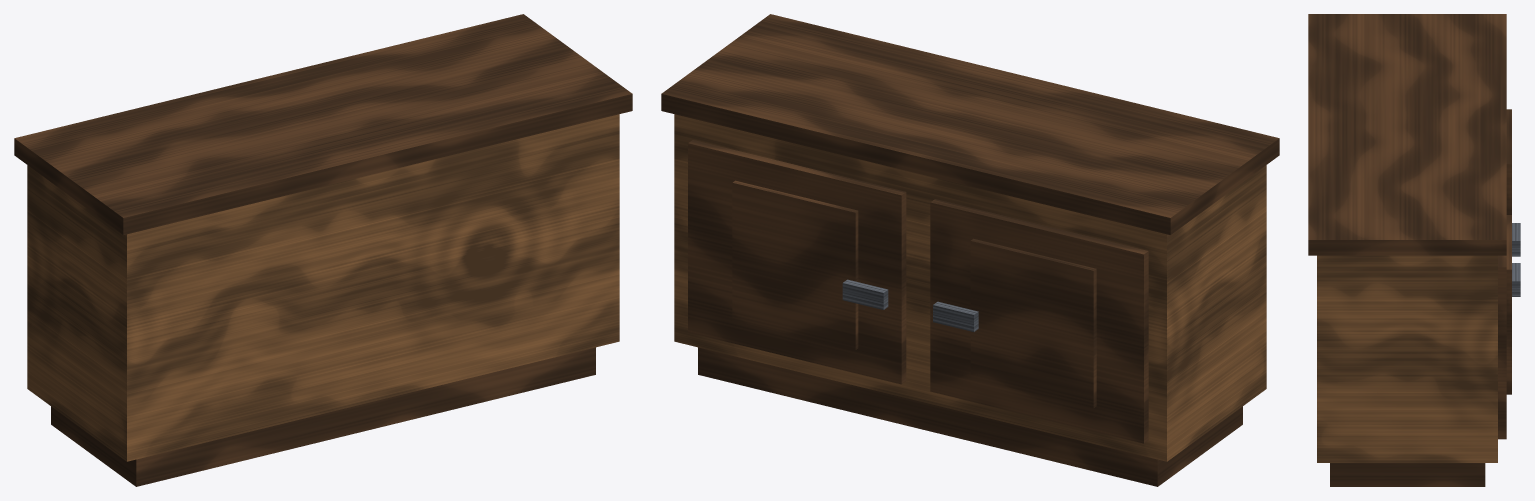
Rendered from living_cabinet.fbx.
3 views of the same model, side by side, from view 1: azimuth 30°, elevation 25°; view 2: azimuth 150°, elevation 25°; view 3: azimuth 270°, elevation 25° (orthographic). The views are drawn at different scales.
Visible parts, largest first — view 1: living_cabinet; view 2: living_cabinet; view 3: living_cabinet.
Part boxes in pixels (x1=…): living_cabinet: x1=14, y1=14, x2=632, y2=486; living_cabinet: x1=661, y1=14, x2=1279, y2=486; living_cabinet: x1=1308, y1=14, x2=1520, y2=486.
Size of the model in its own units: 124 by 66 by 49.2.
